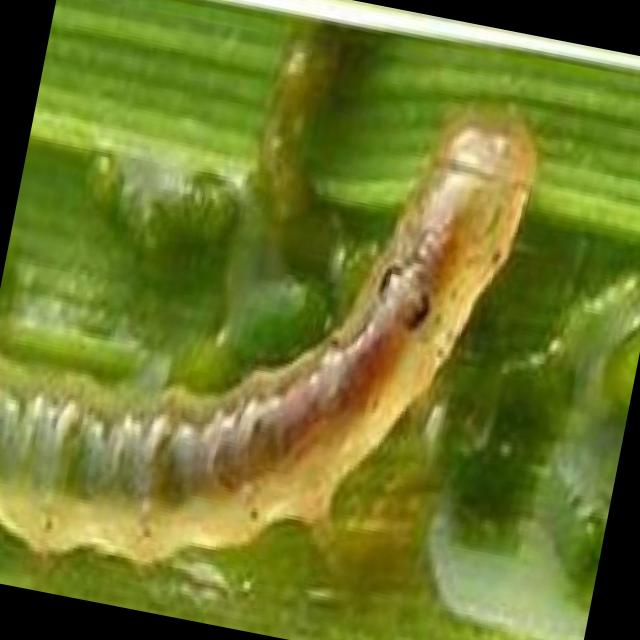leaf-folder: (0, 0, 574, 630)
